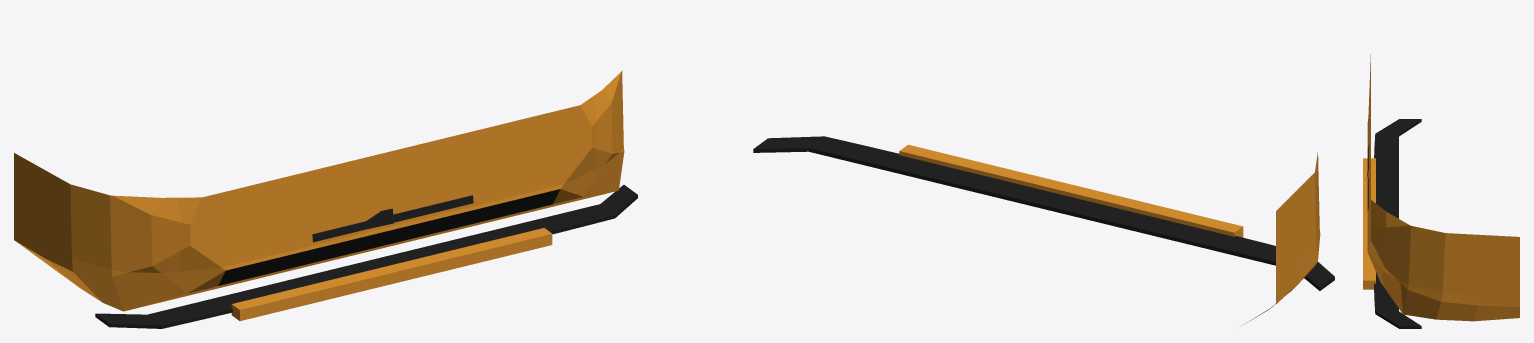
Rendered from protoCoupe_frontBumper_hayate.glb.
The picture shows the model from 3 angles, left to right: view 1: azimuth 30°, elevation 25°; view 2: azimuth 150°, elevation 25°; view 3: azimuth 270°, elevation 25°; orthographic projection. The views are drawn at different scales.
Parts seen in each view (by area): view 1: frontBumper_hayate; view 2: frontBumper_hayate; view 3: frontBumper_hayate.
Boxes of the visible parts, left/top/right/bottom form: frontBumper_hayate: left=14, top=70, right=637, bottom=328; frontBumper_hayate: left=753, top=136, right=1334, bottom=324; frontBumper_hayate: left=1363, top=54, right=1519, bottom=328.
Size of the model in its own units: 1.7 by 0.3661 by 0.5054.
